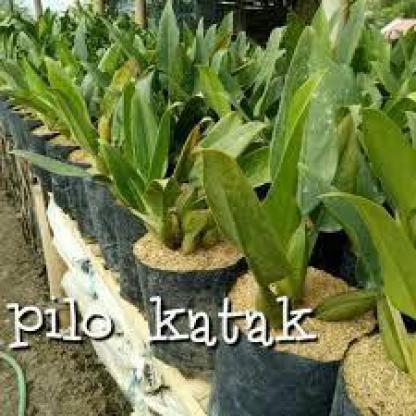Kenanga: (132, 70, 276, 387), (23, 52, 114, 343)
